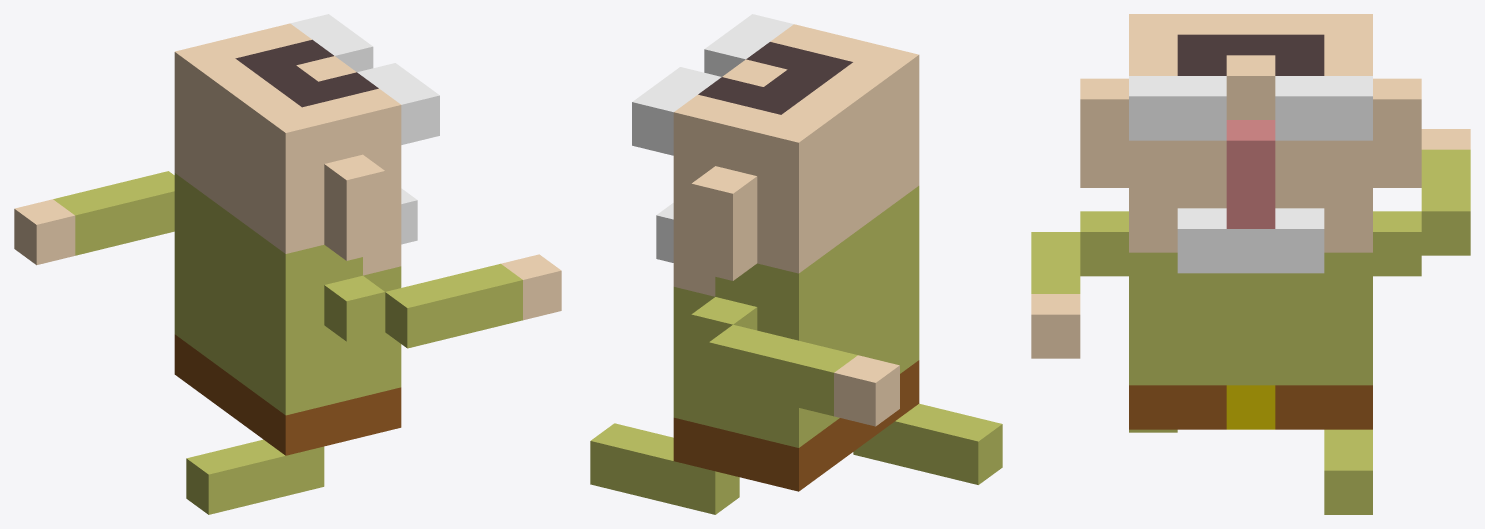
Rendered from Man-4.obj.
3 views of the same model, side by side, from view 1: azimuth 30°, elevation 25°; view 2: azimuth 150°, elevation 25°; view 3: azimuth 270°, elevation 25° (orthographic). The views are drawn at different scales.
Bounding box in the file's own units: 0.9 × 0.9 × 0.9.
Materials: 1 (1 with a texture image).
